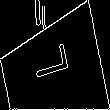L_W: (30, 49, 74, 91)
